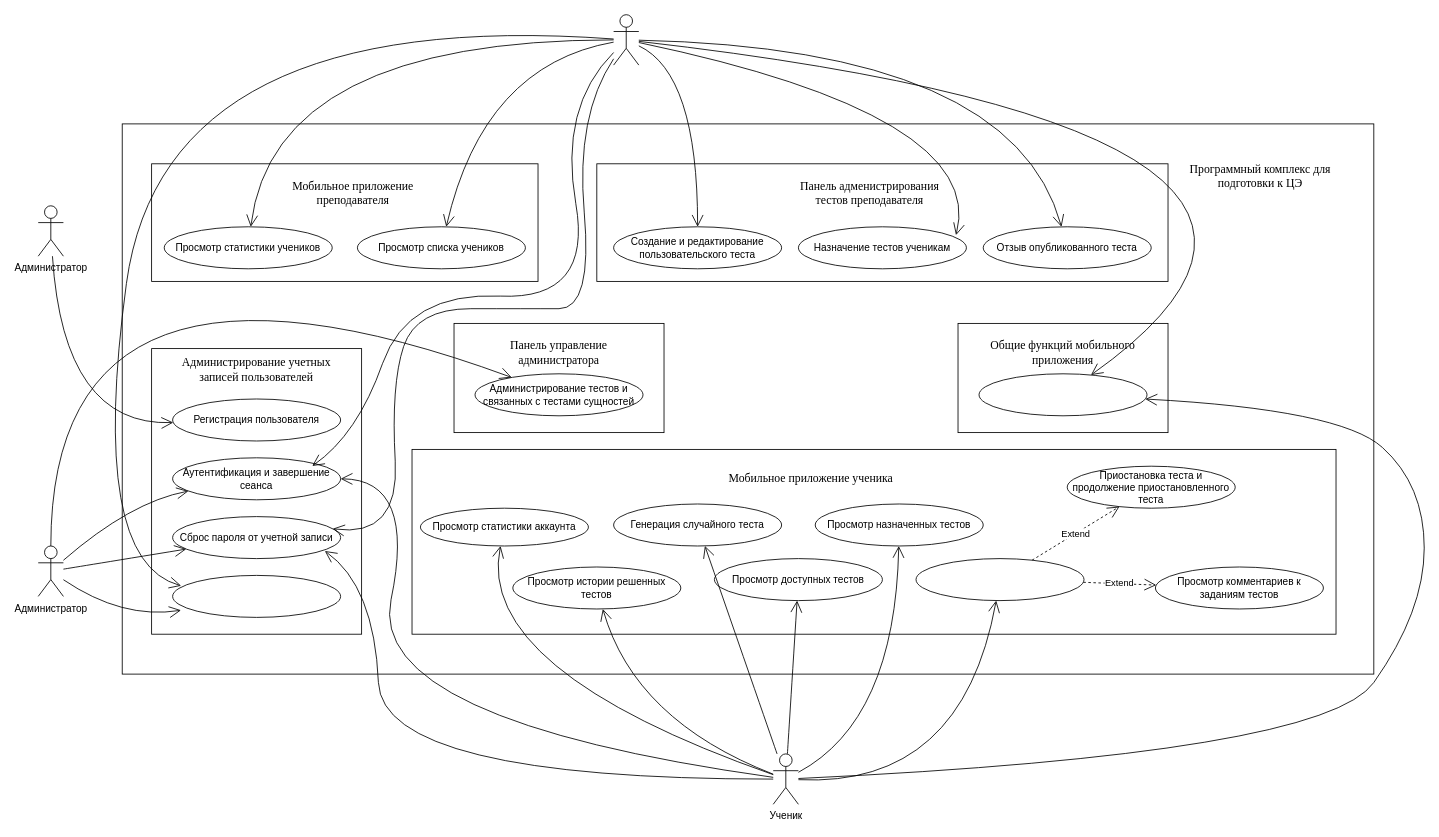
The diagram is 1439 pixels wide and 837 high, and some of its shapes have lost their labels. Here are the shapes that lost their labels. From the top down, the centre of each, then its label:
(x=626, y=39): Преподаватель
(x=1062, y=394): Получение уведомлений
(x=256, y=596): Управление привязкой "преподаватель-ученик"
(x=999, y=579): Прохождение теста
